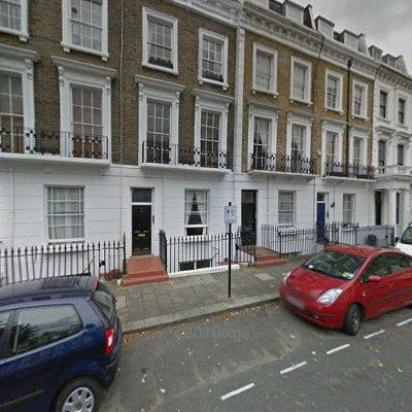stationary-car-onstreet: (0, 274, 124, 412), (278, 243, 412, 337)
